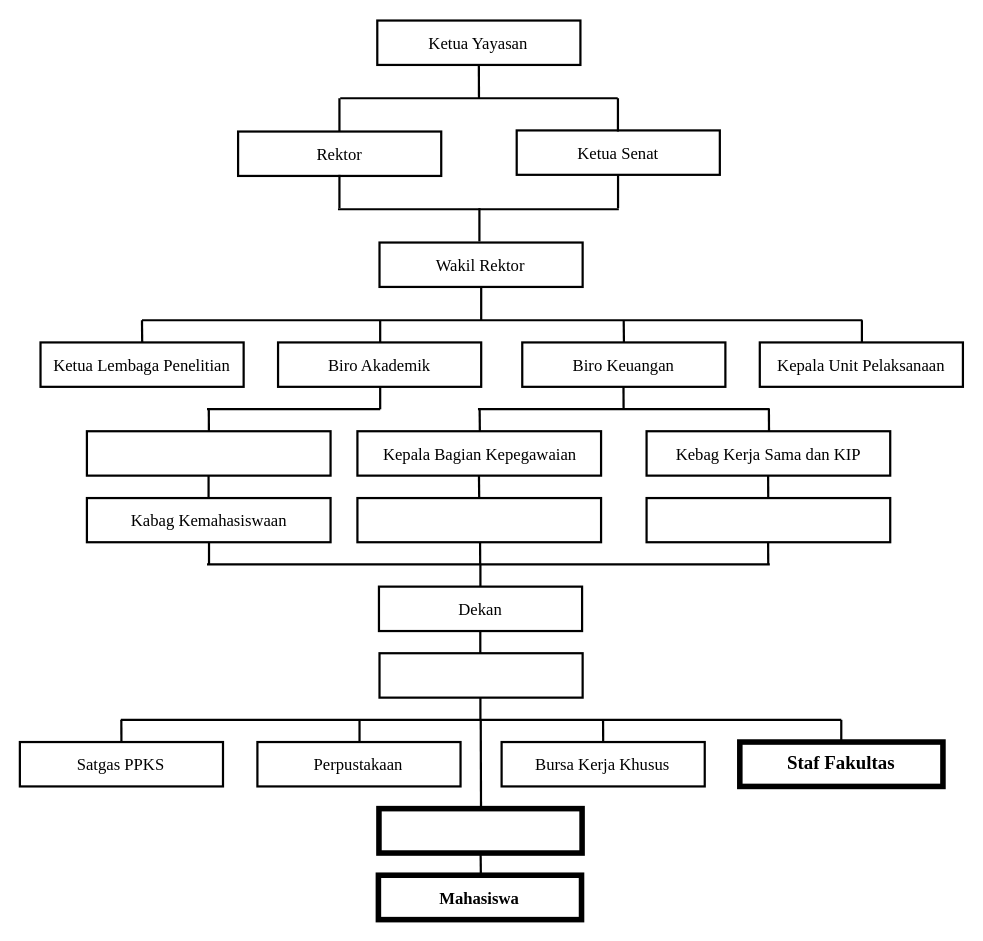
Some shapes in this 983 by 941 pixel diagram are drawn without their labels. Here are the shapes that lost their labels. From the top down, the box of each, then its label:
(85, 430, 331, 476): Kabag Sistem Informasi
(356, 496, 602, 543): Kebag Marketing dan Humas
(645, 496, 891, 543): Kabag Sarana dan Prasarana
(378, 652, 583, 698): Ketua Program Studi
(376, 805, 584, 855): Dosen
